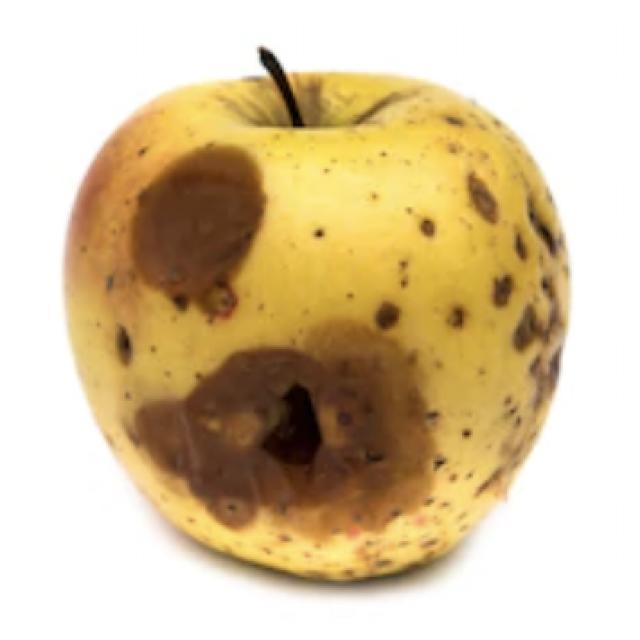Rotten: (60, 65, 578, 582)
